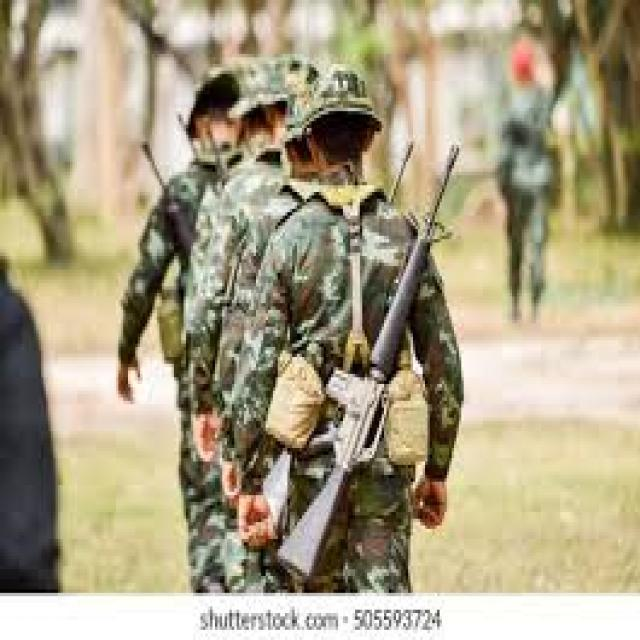m16: (246, 135, 472, 574)
